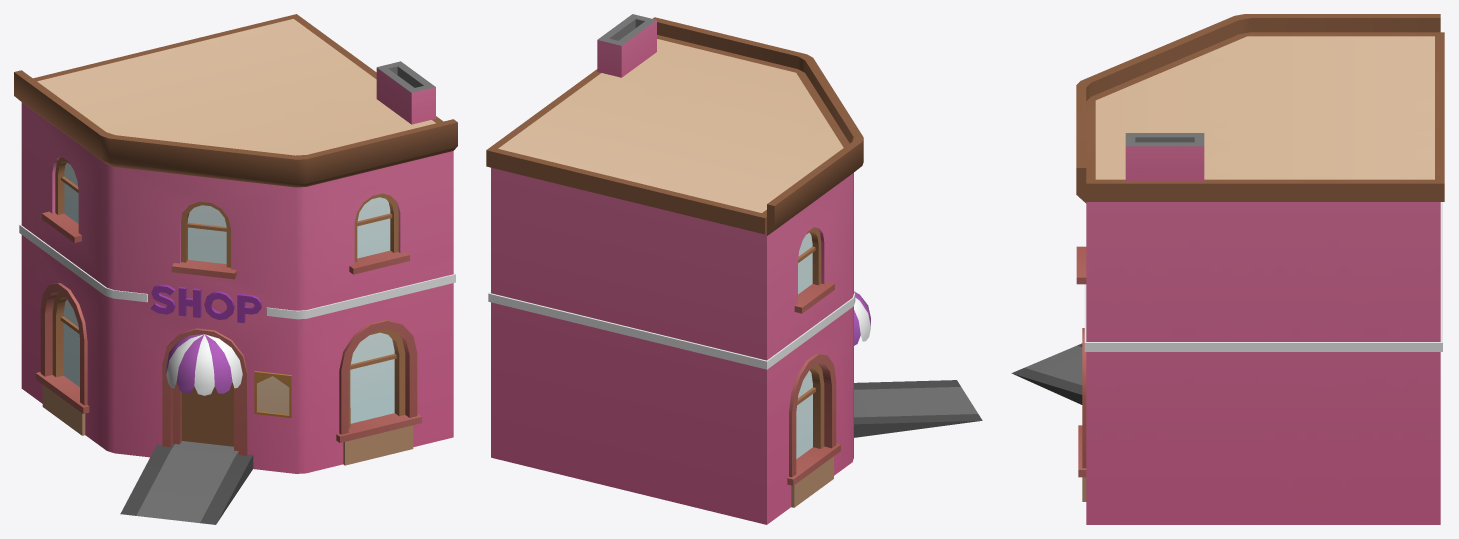
3 renders of one model, left to right at view 1: azimuth 30°, elevation 25°; view 2: azimuth 150°, elevation 25°; view 3: azimuth 270°, elevation 25°, orthographic. The views are drawn at different scales.
Parts seen in each view (by area): view 1: Building_6A; view 2: Building_6A; view 3: Building_6A.
Part boxes in pixels (box(x1,y1,x2,y2)): Building_6A: box(14, 14, 457, 524); Building_6A: box(486, 14, 982, 524); Building_6A: box(1011, 14, 1444, 524).
Size of the model in its own units: 13671 by 13177 by 13671.
